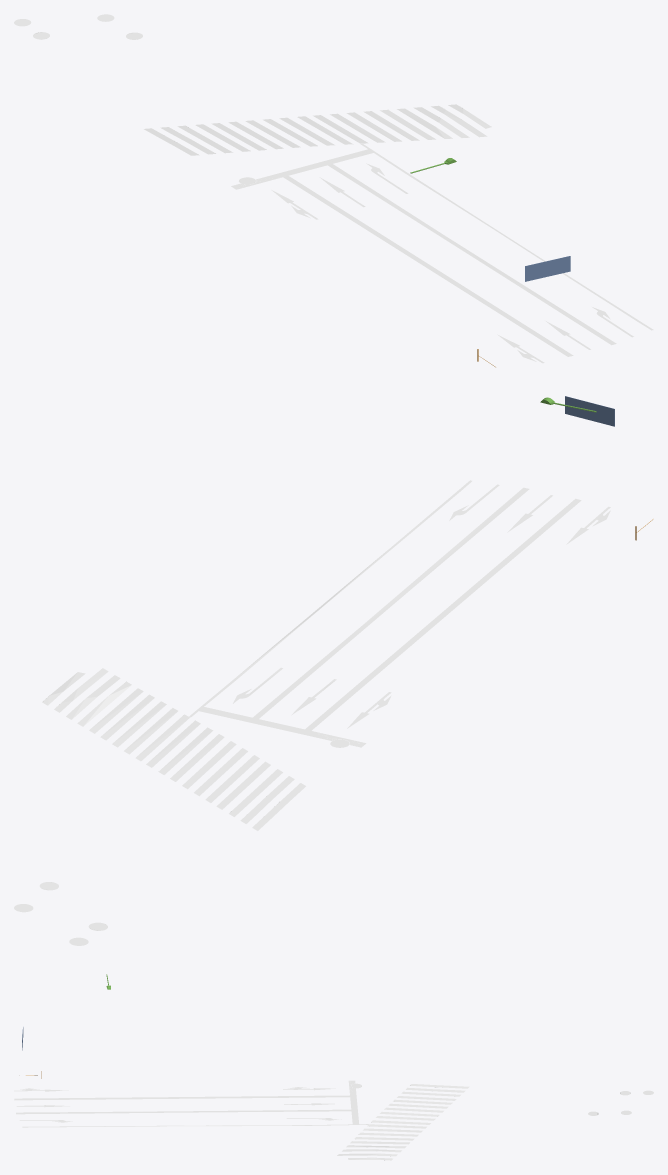
Rendered from data126.glb.
3 views of the same model, one above another, from view 1: azimuth 30°, elevation 25°; view 2: azimuth 150°, elevation 25°; view 3: azimuth 270°, elevation 25° (orthographic). The views are drawn at different scales.
Bounding box in the file's own units: 18.08 × 10.9 × 57.98.
Materials: 4 (1 with a texture image).
